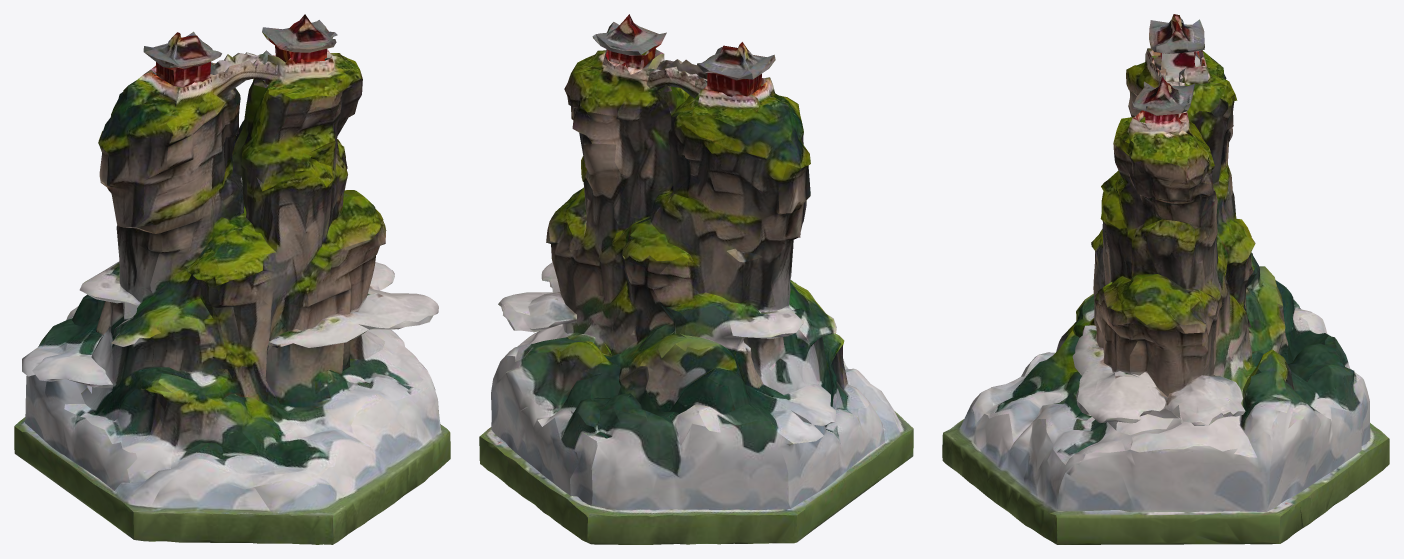
Rendered from fanjingshan.glb.
3 renders of one model, left to right at view 1: azimuth 30°, elevation 25°; view 2: azimuth 150°, elevation 25°; view 3: azimuth 270°, elevation 25°, orthographic.
Visible parts, largest first — view 1: logan-textured.obj; view 2: logan-textured.obj; view 3: logan-textured.obj.
Part boxes in pixels (x1,y1,x2,y2): logan-textured.obj: (14, 14, 450, 544); logan-textured.obj: (479, 14, 913, 544); logan-textured.obj: (942, 14, 1389, 544).
Bounding box in the file's own units: 0.8321 × 1 × 0.9426.
Materials: 1 (1 with a texture image).
